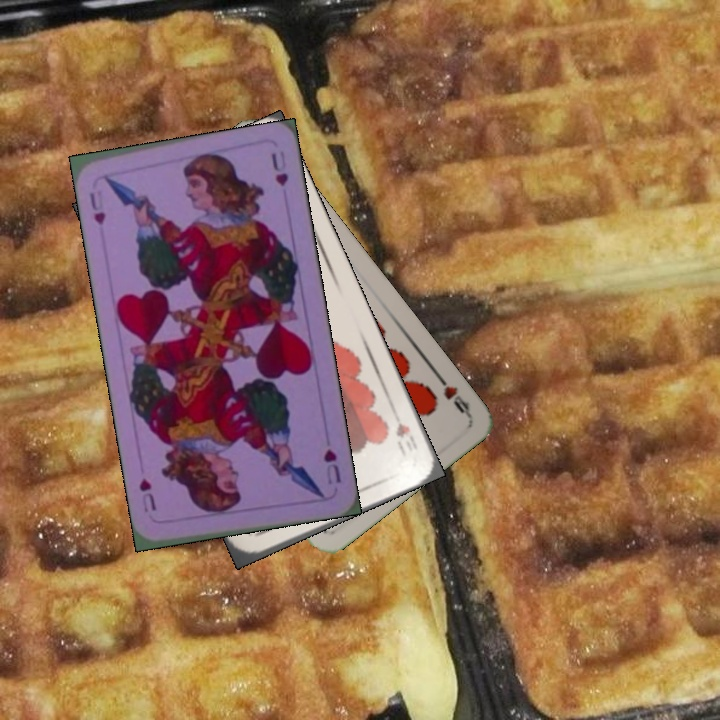H10: (391, 418, 421, 459)
H9: (431, 368, 473, 419)
HU: (319, 445, 344, 487), (85, 186, 108, 228)
